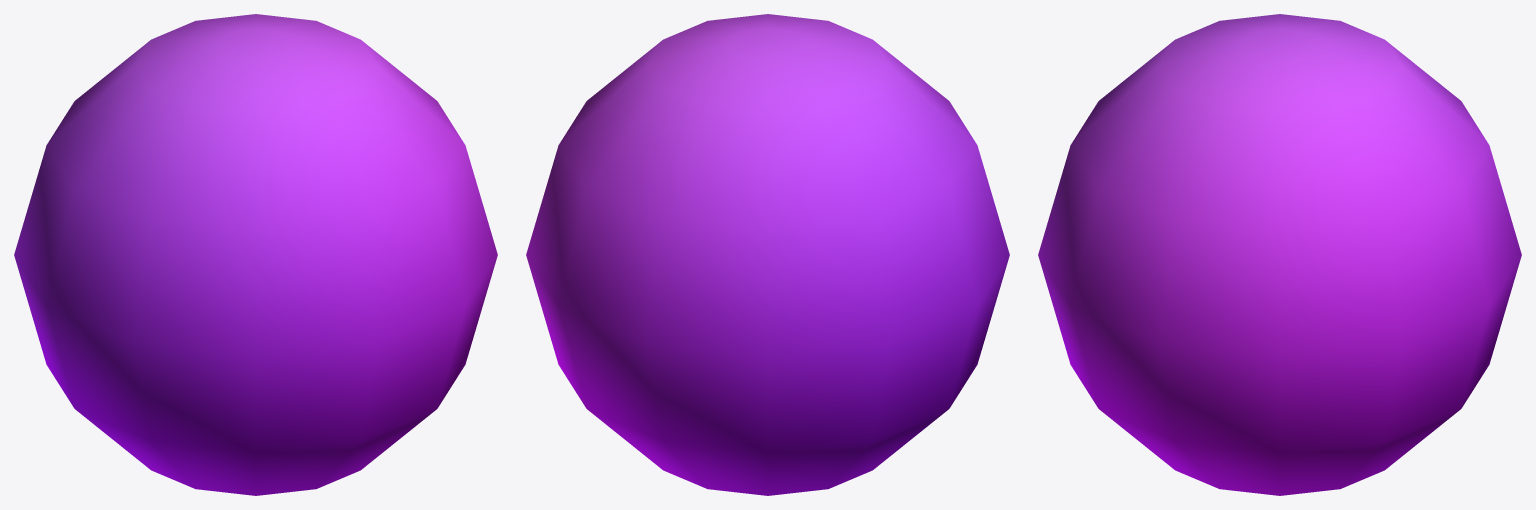
File: Volleyball_C.fbx
The picture shows the model from 3 angles, left to right: view 1: azimuth 30°, elevation 25°; view 2: azimuth 150°, elevation 25°; view 3: azimuth 270°, elevation 25°; orthographic projection.
Visible parts, largest first — view 1: Volleyball_C; view 2: Volleyball_C; view 3: Volleyball_C.
Boxes of the visible parts, bbox=[...] form: Volleyball_C: bbox=[14, 14, 497, 495]; Volleyball_C: bbox=[526, 14, 1009, 495]; Volleyball_C: bbox=[1038, 14, 1521, 495].
Size of the model in its own units: 33.6 by 32.1 by 33.6.
